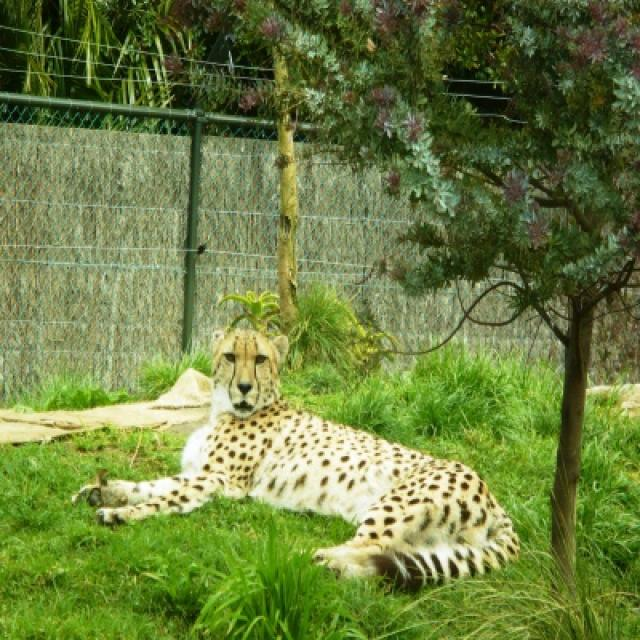Cheetah: (77, 328, 520, 595)
